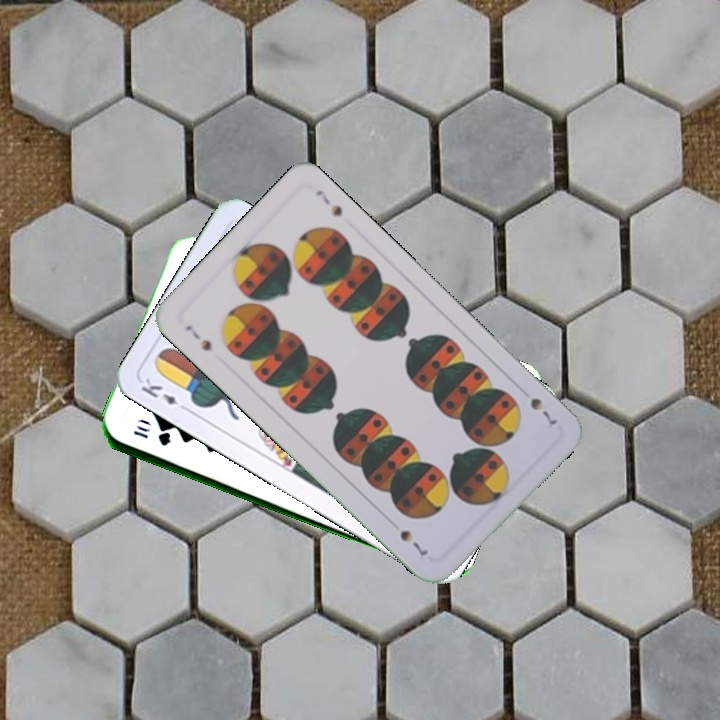EK: (137, 374, 192, 415)
G10: (129, 421, 174, 449)
S7: (526, 393, 560, 431), (180, 321, 214, 355)
